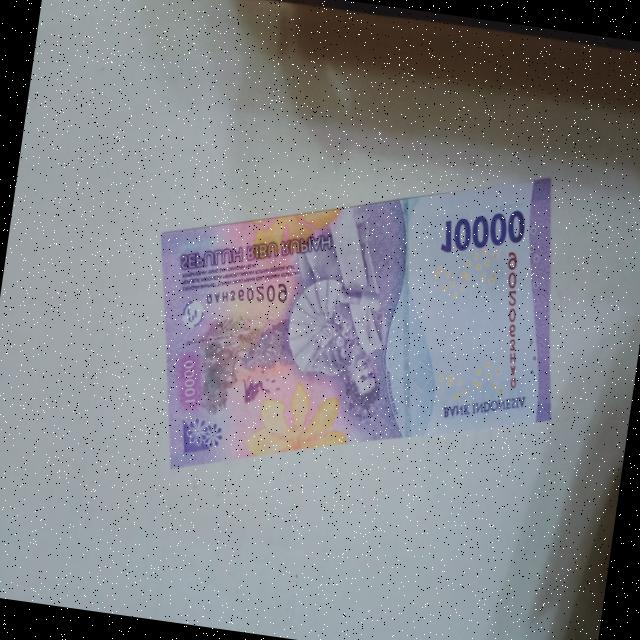10K: (124, 119, 594, 543)
